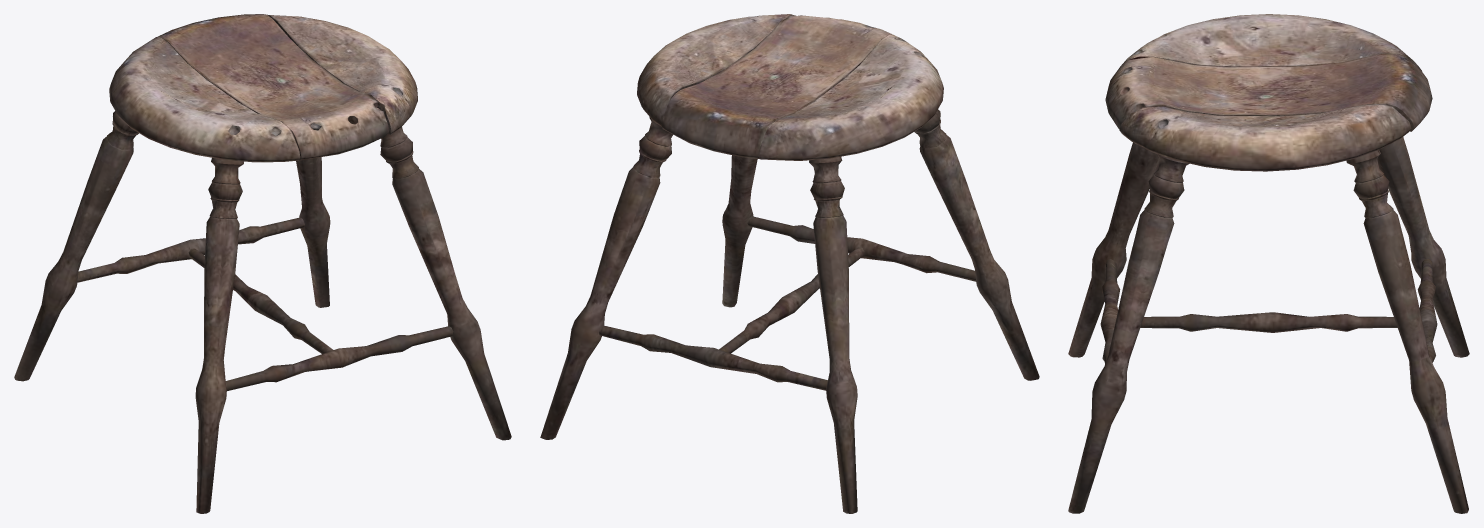
File: stool.glb
The picture shows the model from 3 angles, left to right: view 1: azimuth 30°, elevation 25°; view 2: azimuth 150°, elevation 25°; view 3: azimuth 270°, elevation 25°; orthographic projection. The views are drawn at different scales.
Parts seen in each view (by area): view 1: wooden_stool_01; view 2: wooden_stool_01; view 3: wooden_stool_01.
Part boxes in pixels (x1=…): wooden_stool_01: x1=14, y1=14, x2=511, y2=513; wooden_stool_01: x1=540, y1=14, x2=1039, y2=513; wooden_stool_01: x1=1068, y1=14, x2=1469, y2=513.
Size of the model in its own units: 0.4246 by 0.4365 by 0.4417.
Materials: 1 (1 with a texture image).
